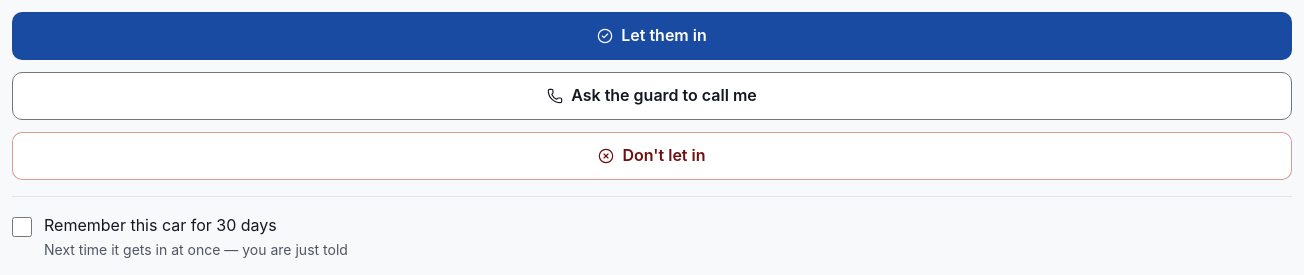
it: VisitAnswer › someone else answered first: the card names them and says mine was not used
This screenshot has width=1304, height=275.
Click the button with test id "visit-deny".
click(652, 156)  # box [12,132,1292,180]
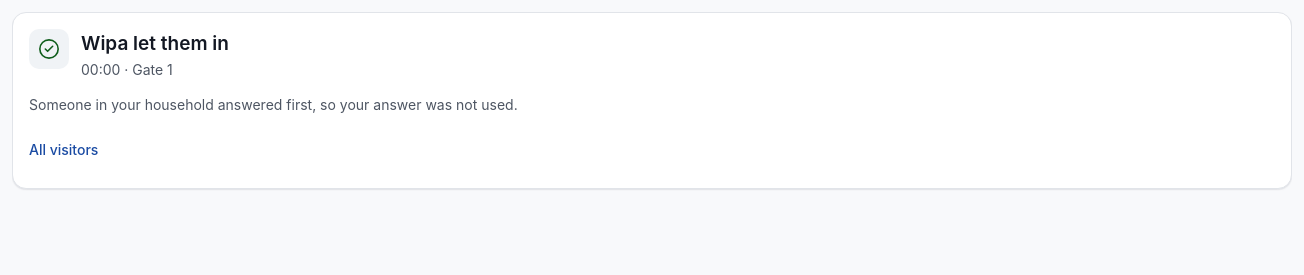
Result: the heading "Wipa let them in" is shown at [81,29,229,59]
Result: the element with test id "visit-actions" is gone
